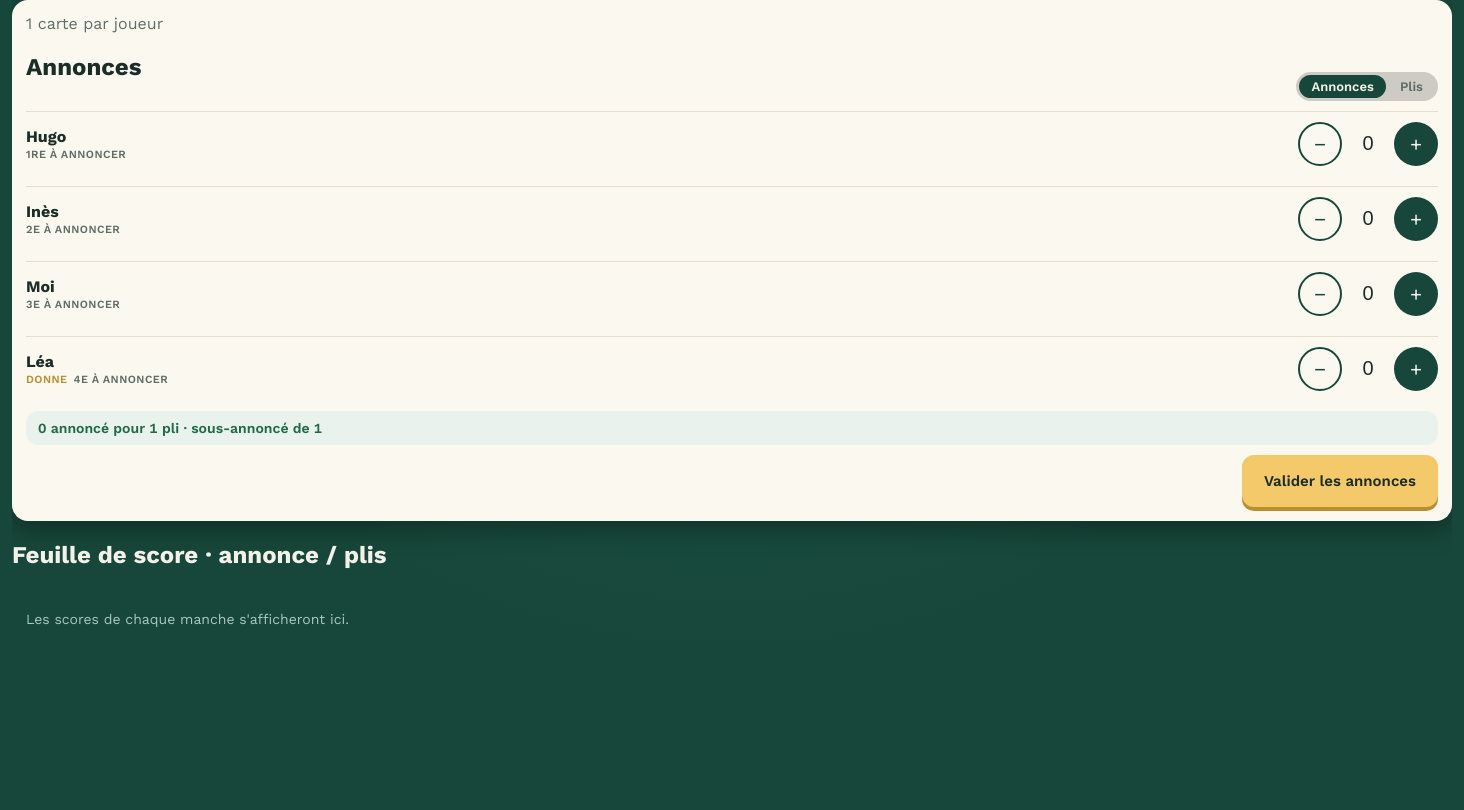
it: FeuilleWizard › valide la manche, met à jour le classement et la feuille de score
The width and height of the screenshot is (1464, 810).
Click the button "Valider les annonces": (1340, 481) [1242, 455, 1438, 507]
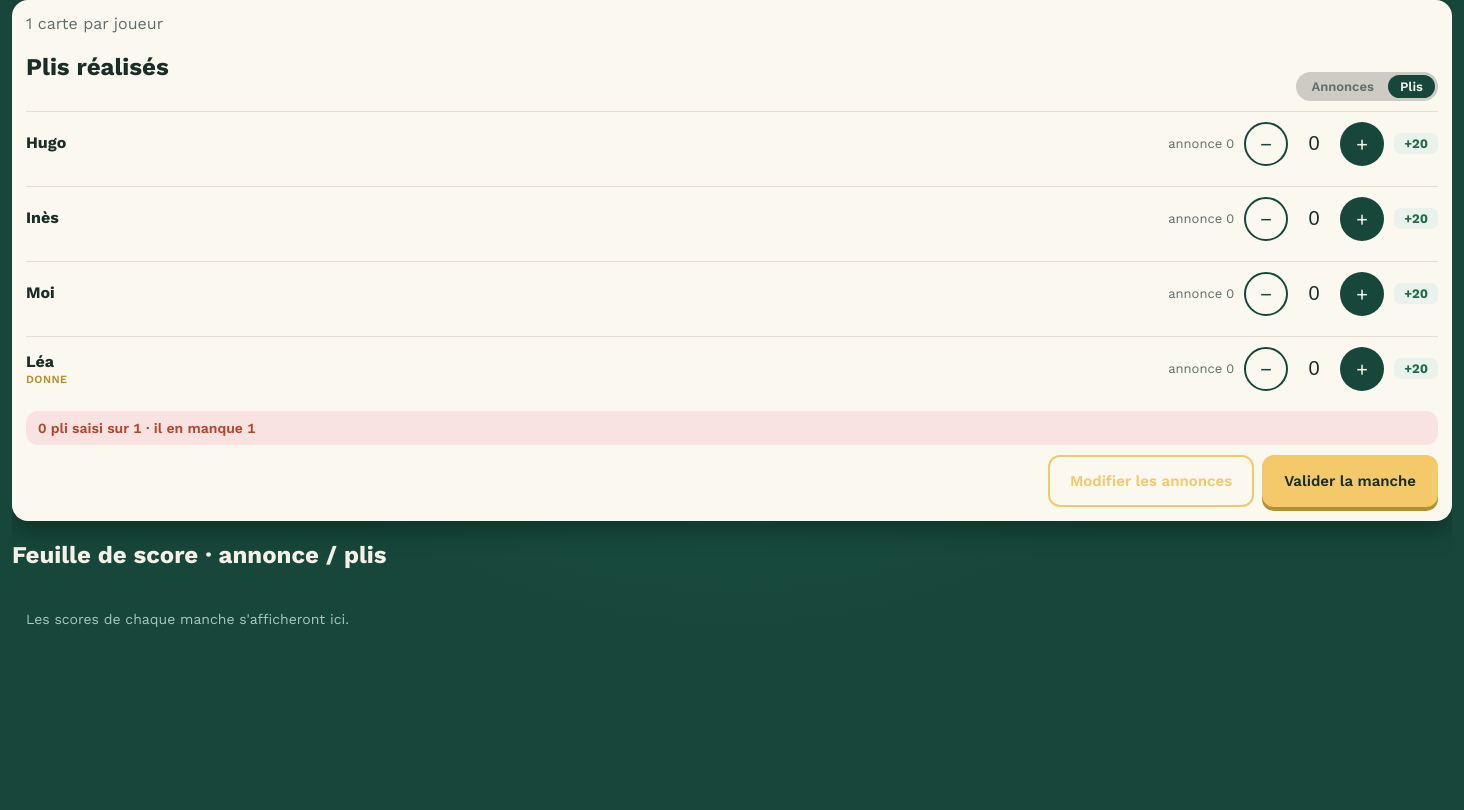
Click the button named "Plus": (1362, 144) [1340, 122, 1384, 166]
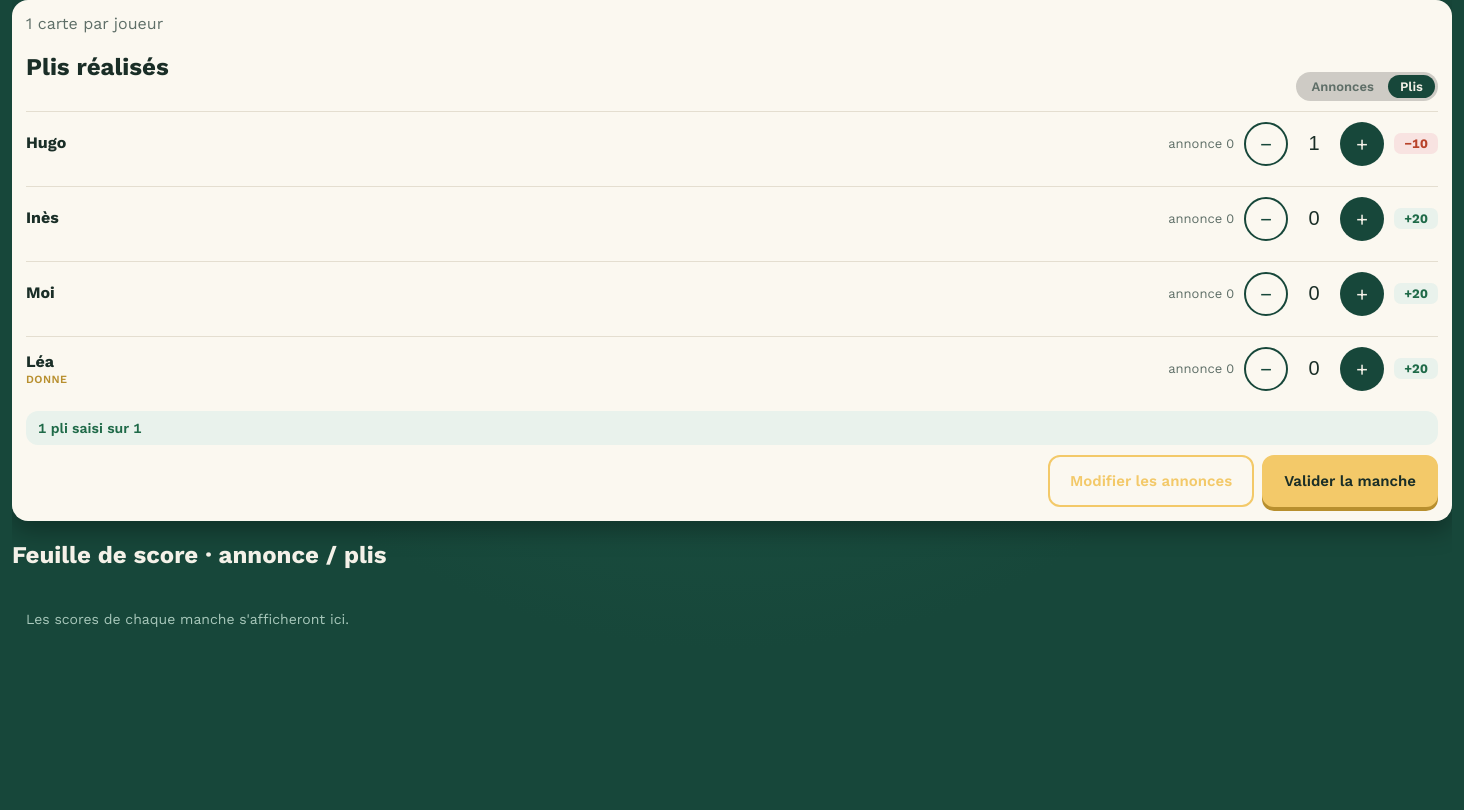
Click the button "Valider la manche": (1350, 481) [1262, 455, 1438, 507]
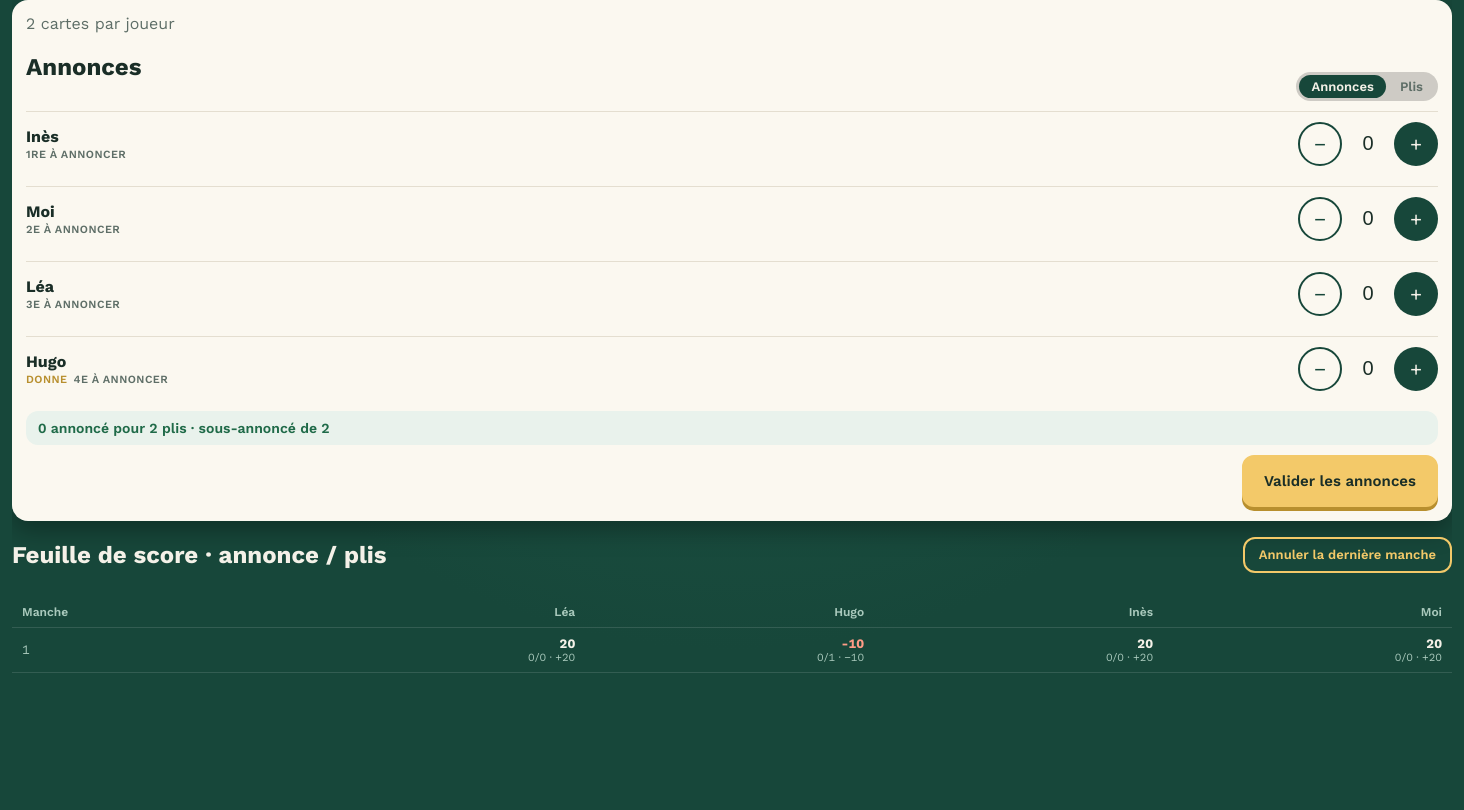
expect the 1st text with class "tot" reads "20": met, box [560, 636, 575, 651]
